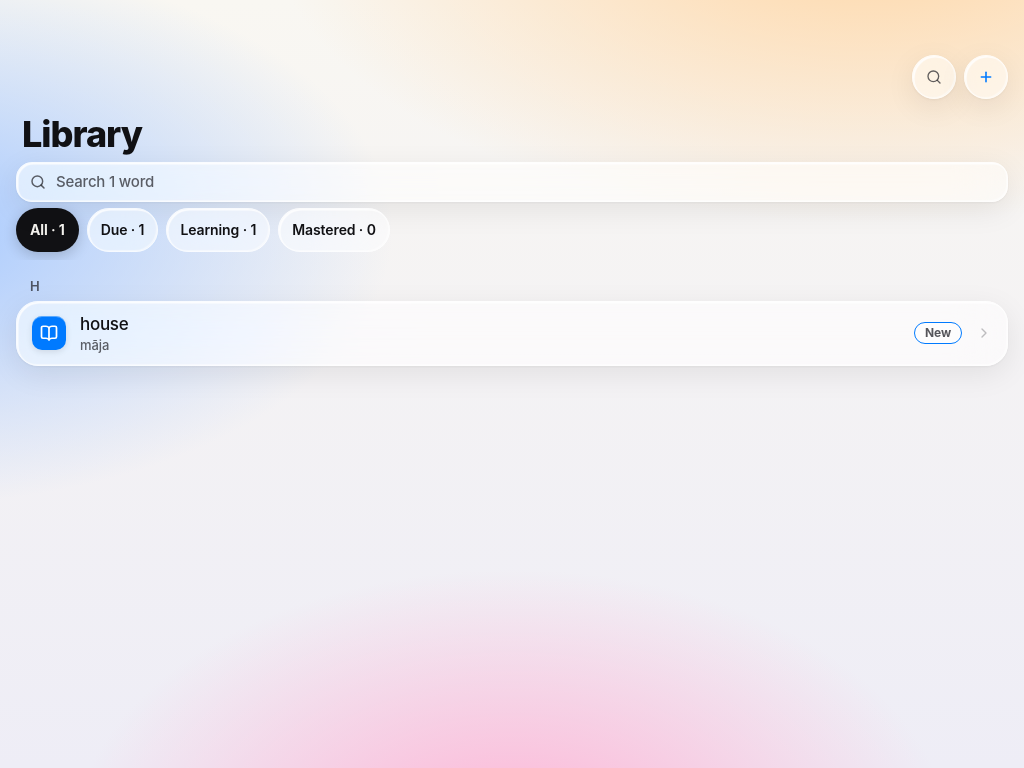
Scenario: LibraryScreen › Add word flow › should open AddWordModal when plus button is tapped
The image size is (1024, 768).
Click the button named "add word".
click(986, 77)  # box [964,55,1008,99]
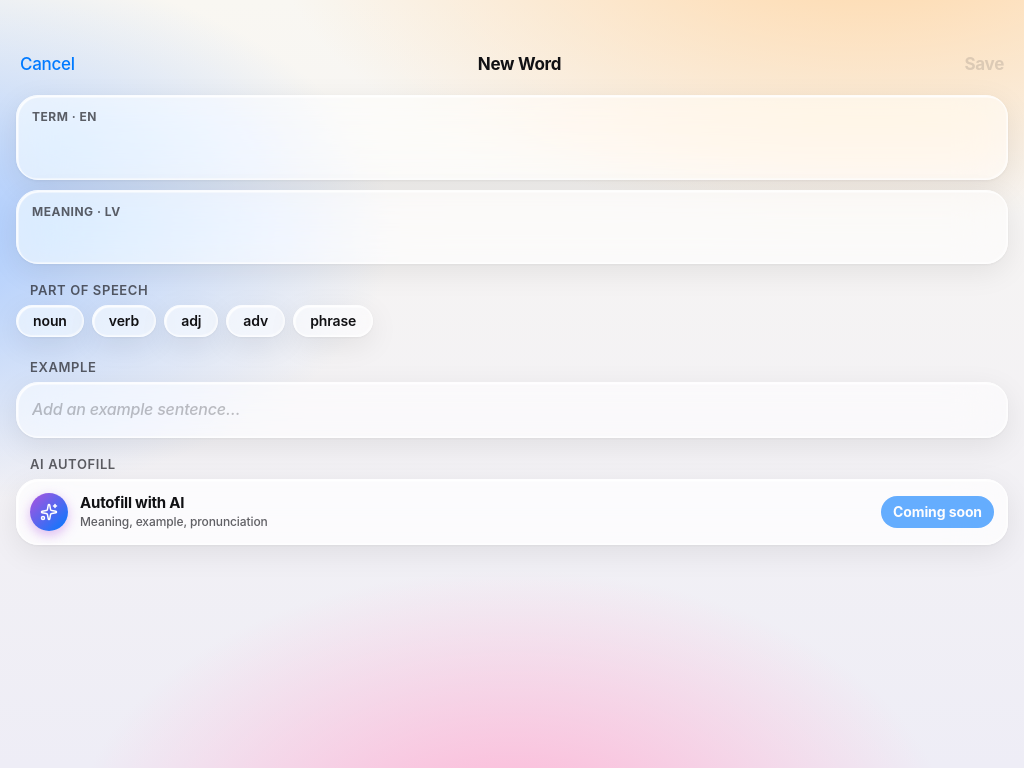
Result: the heading "New Word" is shown at [478,56,561,73]
